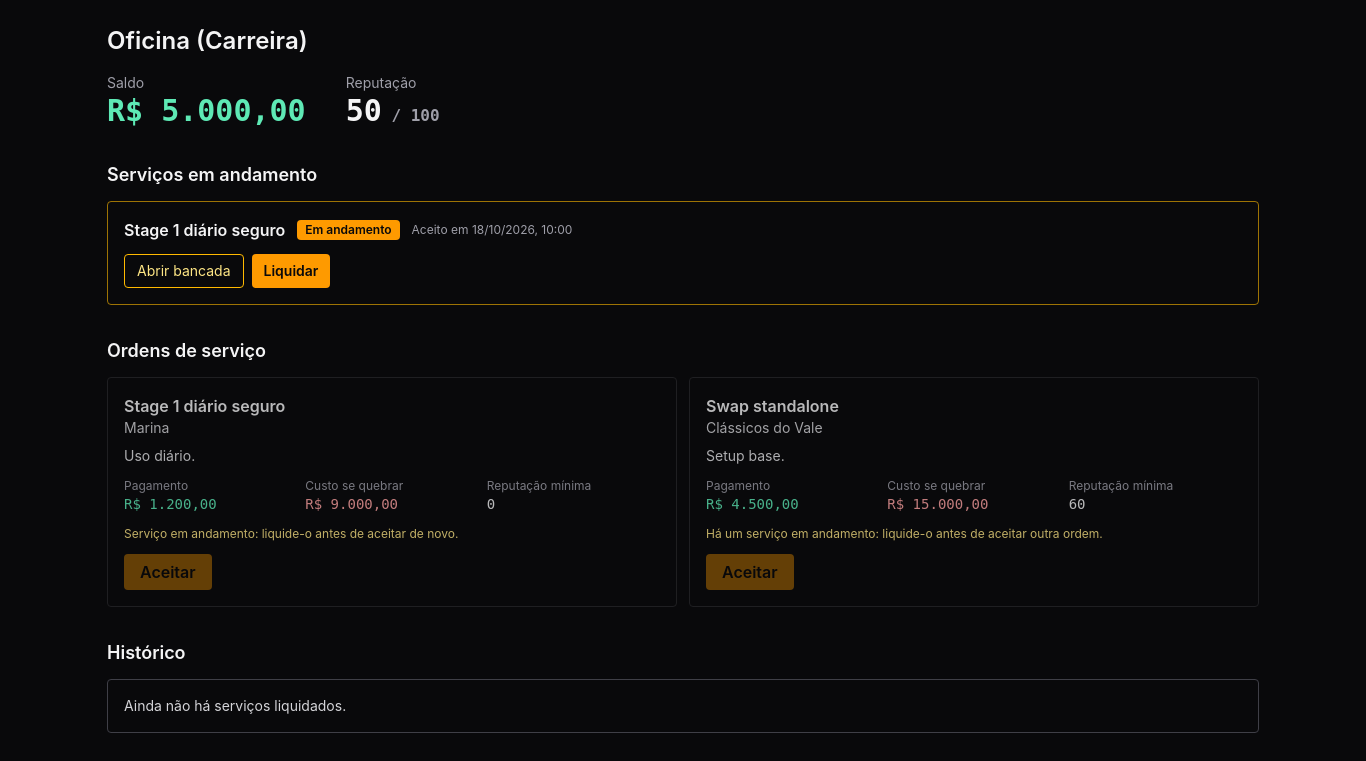
Test: WorkshopPage (002 T048) › liquidar mostra o delta de saldo e de reputação e recarrega
Expected: the button with aria-label "Aceitar a ordem Stage 1 diário seguro" is disabled, top-left (124, 554), bottom-right (212, 590)
Step 1. Click the button with aria-label "Liquidar o serviço Stage 1 diário seguro" → x=291, y=271, box top-left (252, 254), bottom-right (330, 288)
(page scrolled)
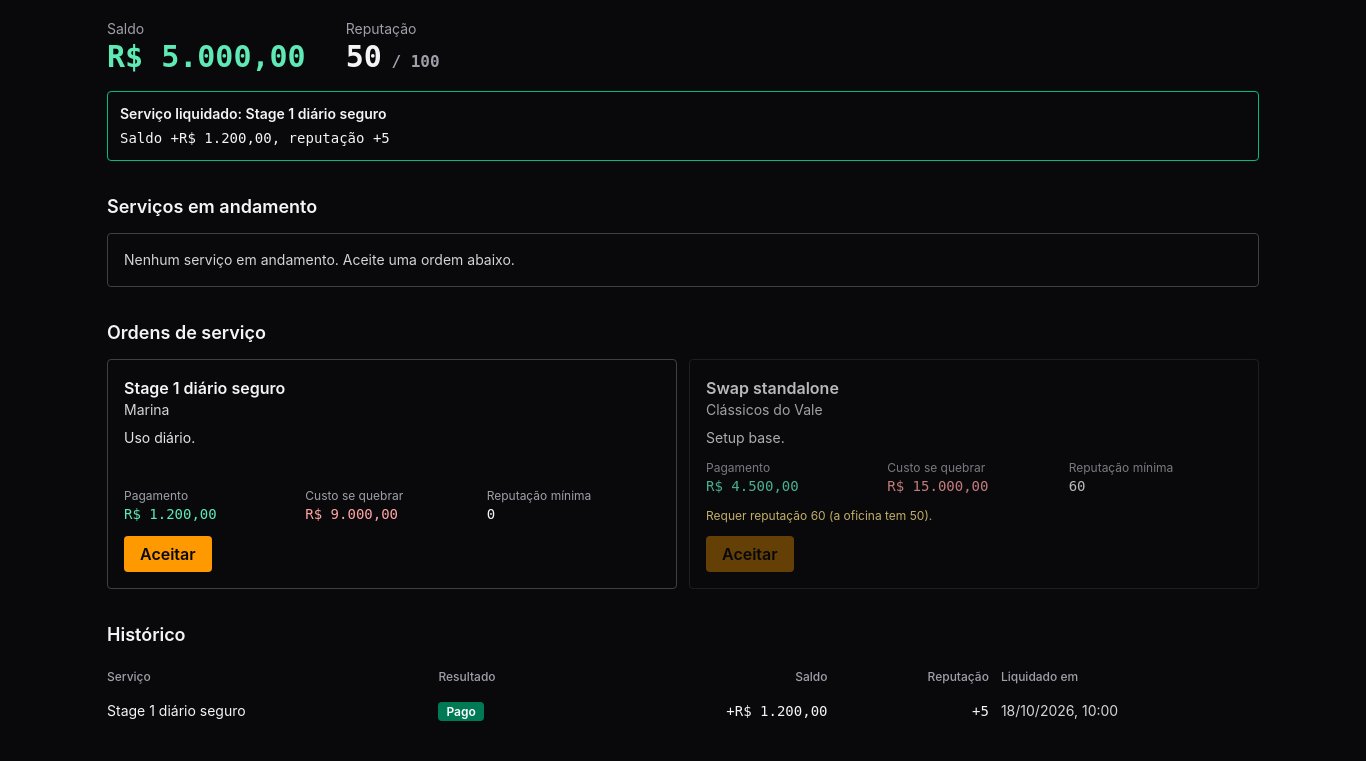
Result: the message reads "Serviço liquidado: Stage 1 diário seguro Saldo +R$ 1.200,00, reputação +5" at top-left (107, 91), bottom-right (1259, 161)
Result: the row "Pago" is shown at top-left (107, 693), bottom-right (1259, 729)
Result: the text "+R$ 1.200,00" is shown at top-left (591, 693), bottom-right (840, 729)
